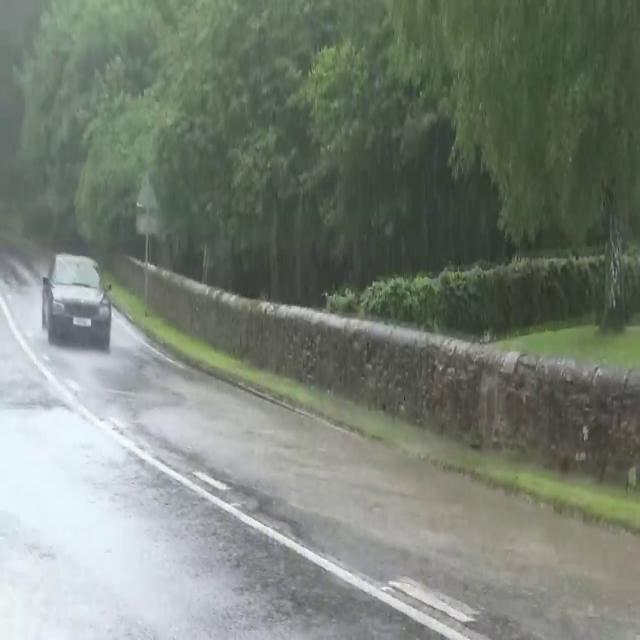license-plate-annotation: (70, 314, 94, 329)
